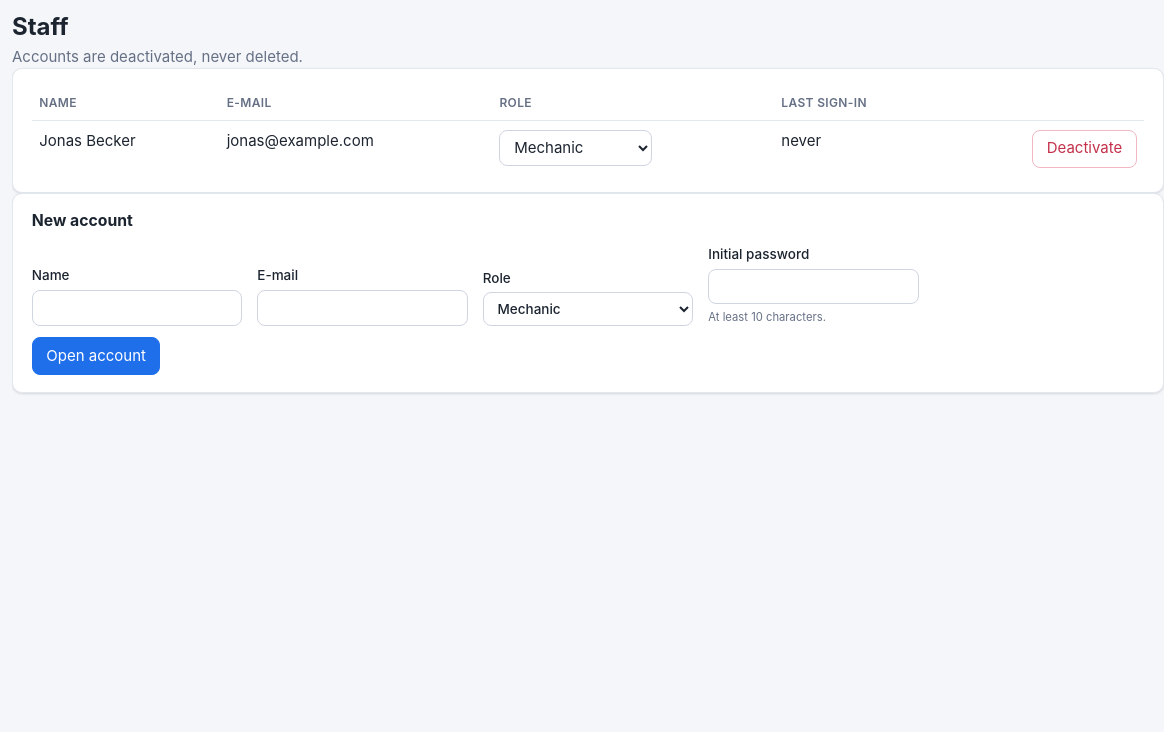
Test case: StaffPage › shows the account as it is now when another owner changed it in the meantime
The image size is (1164, 732).
Select "Owner" in the dropdown named "Role of Jonas Becker". click: (576, 148)
box: 499,130 -> 652,166
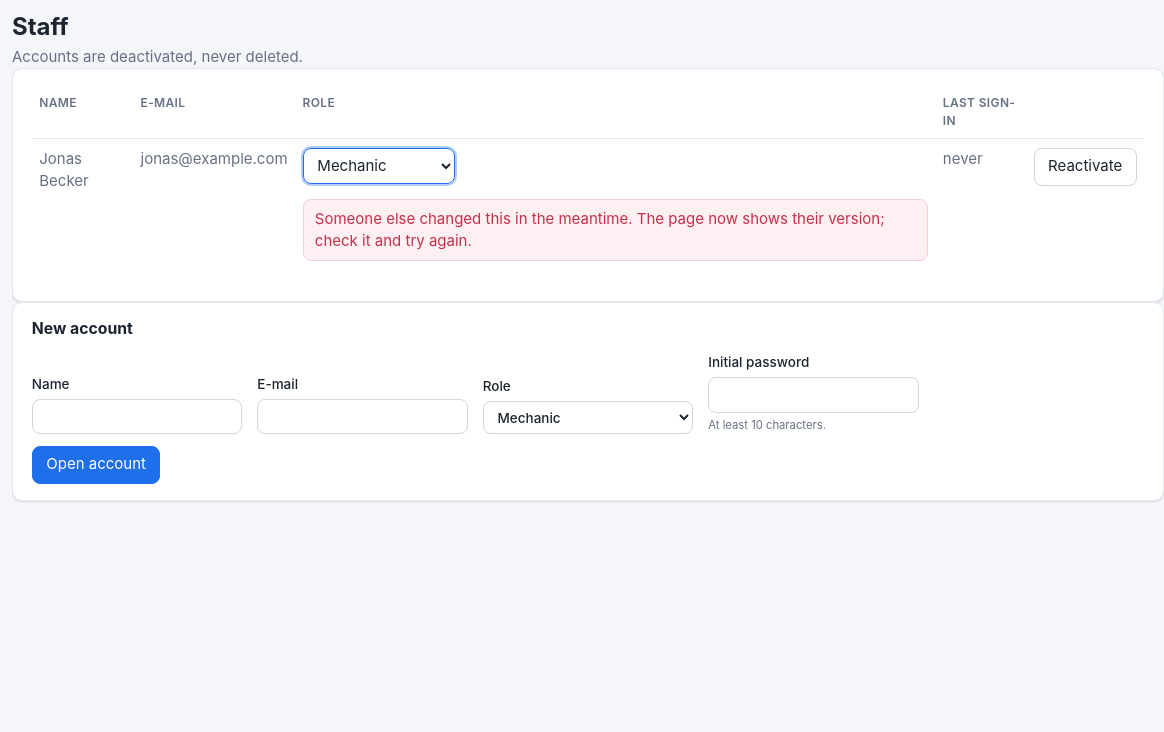
expect the message shows "Someone else changed this in the meantime.": met, box 315,208 -> 885,250
expect the button "Reactivate" is shown: met, box 1034,148 -> 1137,186
